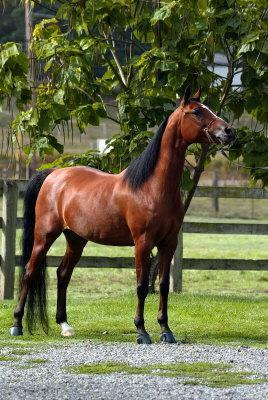horse: (9, 84, 236, 344)
